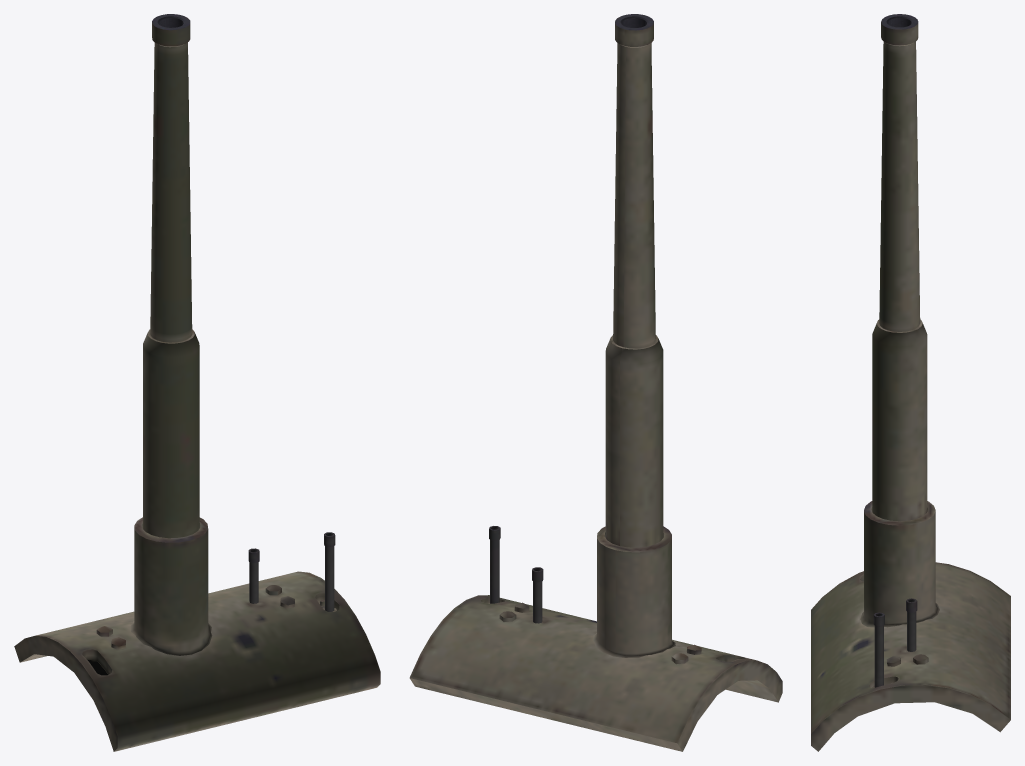
File: Gun_01.glb
3 renders of one model, left to right at view 1: azimuth 30°, elevation 25°; view 2: azimuth 150°, elevation 25°; view 3: azimuth 270°, elevation 25°, orthographic. The views are drawn at different scales.
Visible parts, largest first — view 1: set_0_group_0; view 2: set_0_group_0; view 3: set_0_group_0.
Boxes of the visible parts, left/top/right/bottom form: set_0_group_0: left=14, top=14, right=380, bottom=751; set_0_group_0: left=409, top=14, right=782, bottom=751; set_0_group_0: left=811, top=14, right=1010, bottom=751.
Size of the model in its own units: 0.5563 by 1.36 by 0.3783.
Materials: 1 (1 with a texture image).
